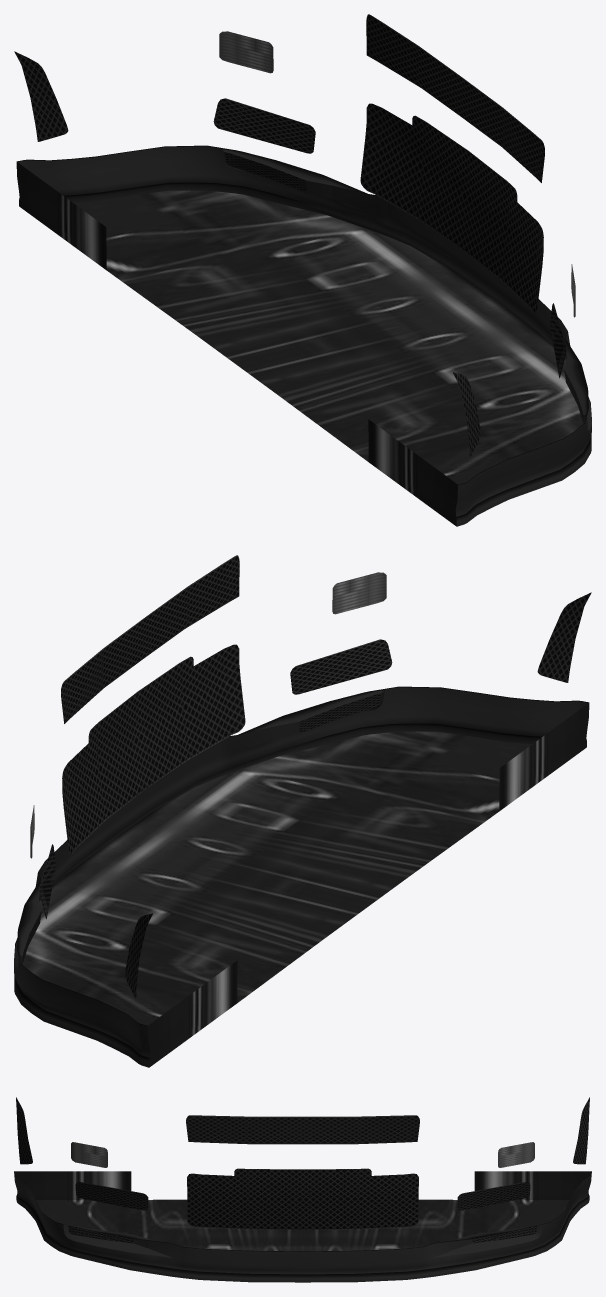
File: gallo99_bumper_front_inner_ucb_bottom_lt_0.004_lev3.glb
3 views of the same model, one above another, from view 1: azimuth 30°, elevation 25°; view 2: azimuth 150°, elevation 25°; view 3: azimuth 270°, elevation 25° (orthographic). The views are drawn at different scales.
Visible parts, largest first — view 1: gallo99_bumper_front_inner_ucb_bottom_lt_0.004_lev3; view 2: gallo99_bumper_front_inner_ucb_bottom_lt_0.004_lev3; view 3: gallo99_bumper_front_inner_ucb_bottom_lt_0.004_lev3.
Boxes of the visible parts, box(x1,y1,x2,y2) form: gallo99_bumper_front_inner_ucb_bottom_lt_0.004_lev3: box(14, 14, 591, 526); gallo99_bumper_front_inner_ucb_bottom_lt_0.004_lev3: box(14, 555, 591, 1067); gallo99_bumper_front_inner_ucb_bottom_lt_0.004_lev3: box(14, 1097, 591, 1282).
Bounding box in the file's own units: 0.6149 × 0.5238 × 1.78.
Materials: 1 (1 with a texture image).
